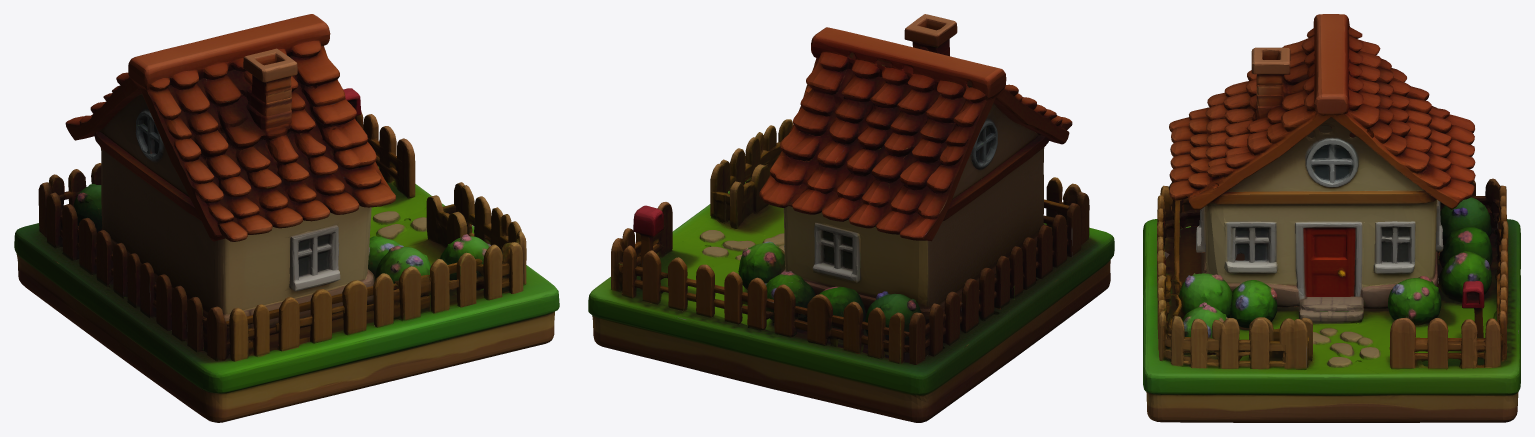
The model's file is edificio_casa.glb.
3 renders of one model, left to right at view 1: azimuth 30°, elevation 25°; view 2: azimuth 150°, elevation 25°; view 3: azimuth 270°, elevation 25°, orthographic. The views are drawn at different scales.
Visible parts, largest first — view 1: world; view 2: world; view 3: world.
Boxes of the visible parts, x1,y1,x2,y2 form: world: (14, 14, 559, 422); world: (588, 14, 1114, 422); world: (1143, 14, 1520, 422).
Size of the model in its own units: 1 by 0.7901 by 0.9997.
1 material, 1 textured.
